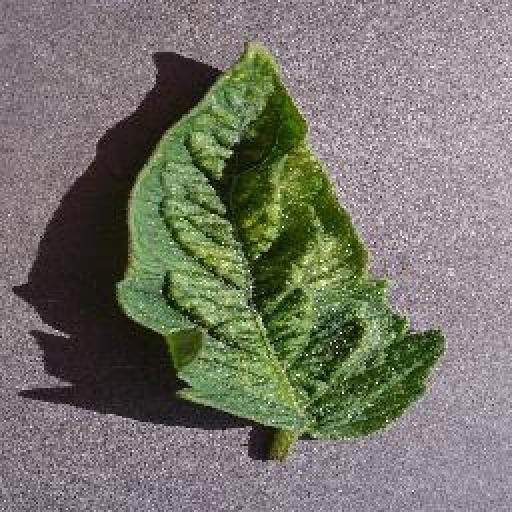disease_tomato: (122, 39, 443, 444)
